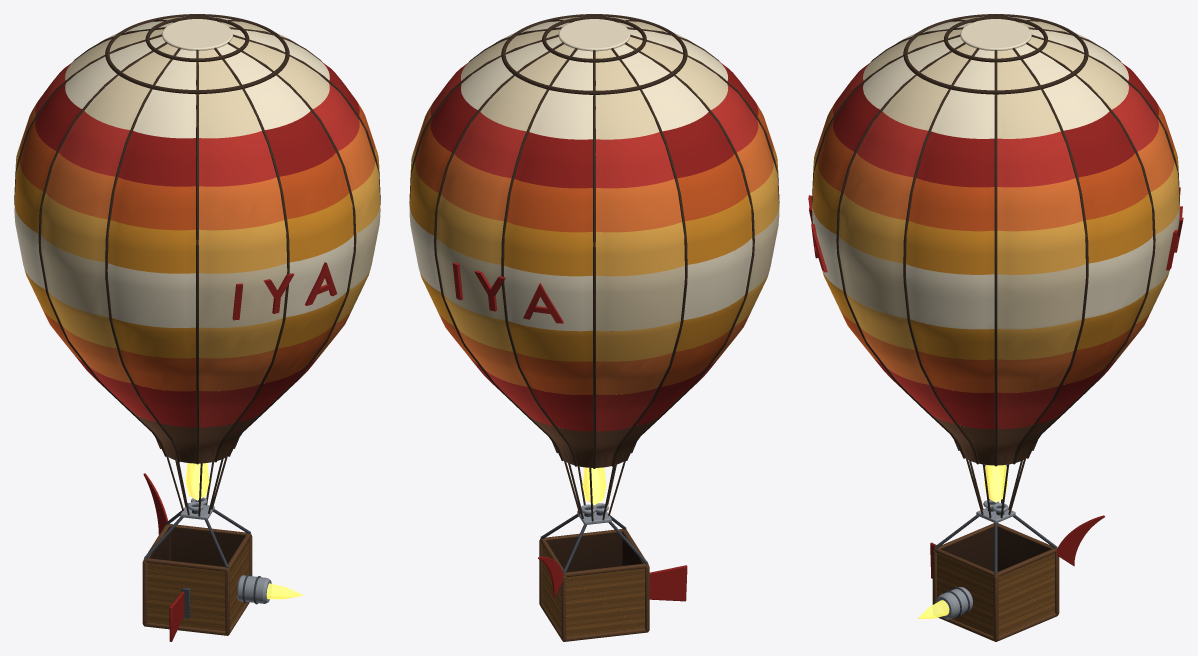
The model's file is hot-air-balloon.glb.
3 renders of one model, left to right at view 1: azimuth 30°, elevation 25°; view 2: azimuth 150°, elevation 25°; view 3: azimuth 270°, elevation 25°, orthographic.
Visible parts, largest first — view 1: envelope, cable, basket, crownring, post, vent, iya, flame, thruster, strut; view 2: envelope, cable, basket, crownring, post, vent, iya, flame, strut; view 3: envelope, cable, basket, crownring, post, vent, flame, iya, thruster, strut.
Boxes of the visible parts, box(x1,y1,x2,y2) form: envelope: box(14, 16, 380, 641); cable: box(14, 15, 380, 516); basket: box(147, 526, 249, 631); crownring: box(105, 14, 289, 94); post: box(142, 524, 252, 635); vent: box(162, 19, 232, 50); iya: box(232, 262, 337, 320); flame: box(185, 463, 303, 599); thruster: box(237, 575, 271, 603); strut: box(144, 509, 250, 568); envelope: box(409, 16, 779, 601); cable: box(409, 15, 779, 521); basket: box(542, 531, 644, 637); crownring: box(501, 14, 687, 94); post: box(539, 529, 649, 641); vent: box(558, 19, 630, 51); iya: box(452, 262, 563, 323); flame: box(582, 467, 606, 505); strut: box(540, 514, 647, 573); envelope: box(812, 16, 1179, 578); cable: box(812, 15, 1179, 518); basket: box(937, 526, 1054, 636); crownring: box(903, 14, 1088, 94); post: box(932, 523, 1059, 641); vent: box(960, 19, 1031, 50); flame: box(918, 465, 1007, 618); iya: box(808, 187, 1183, 272); thruster: box(935, 587, 972, 619); strut: box(934, 515, 1057, 573).
Size of the model in its own units: 12.86 by 22.49 by 13.13.
19 materials, 1 textured.
